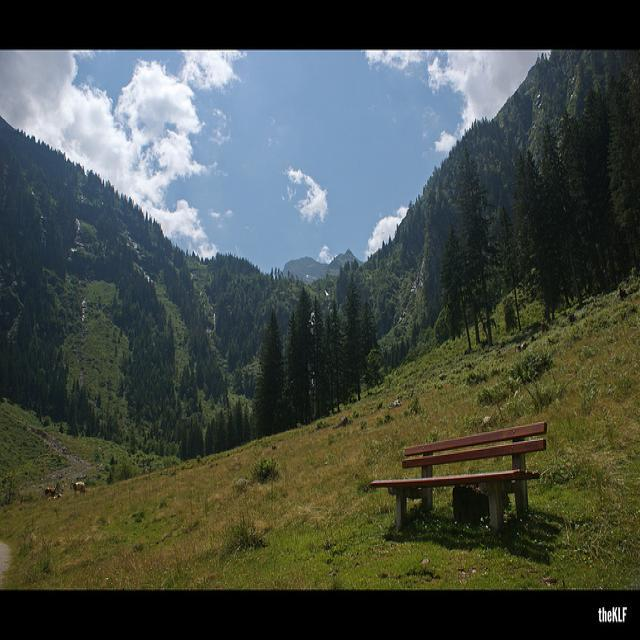cow: (72, 479, 85, 494), (44, 486, 55, 495)
